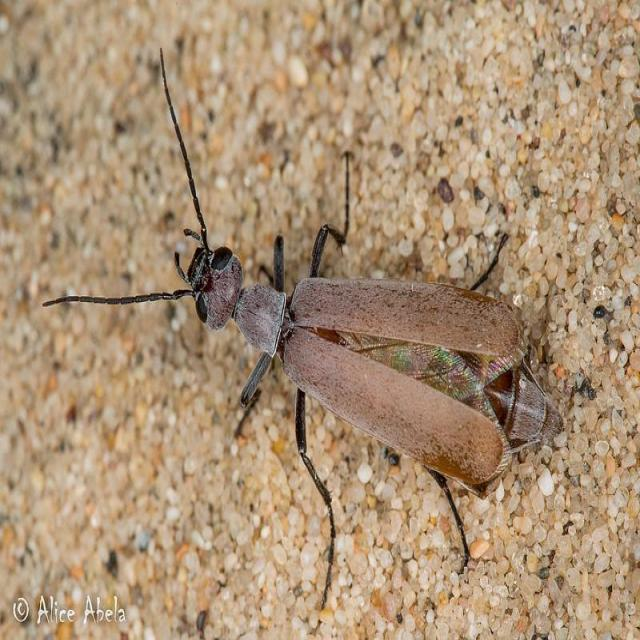BlisterBeetle-Adult-: (112, 44, 572, 556)
